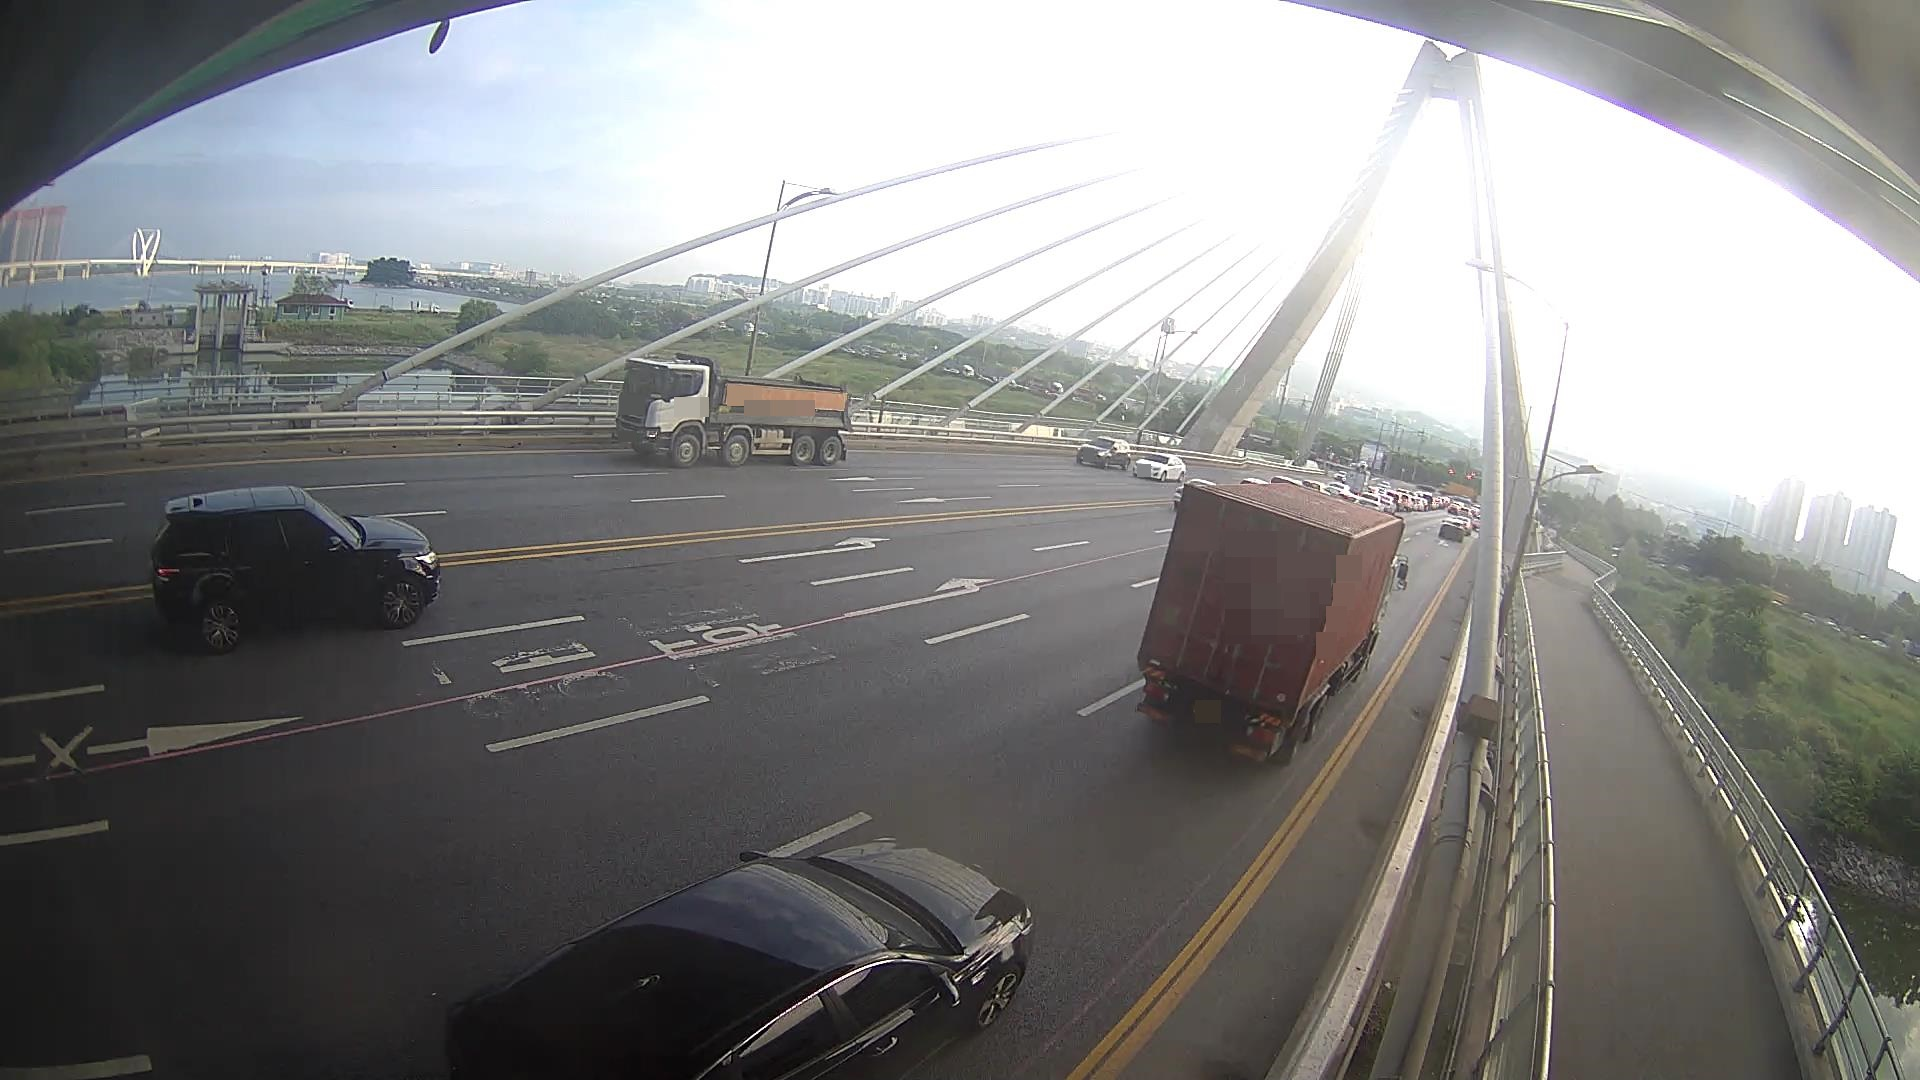정상차량: (612, 353, 855, 468)
